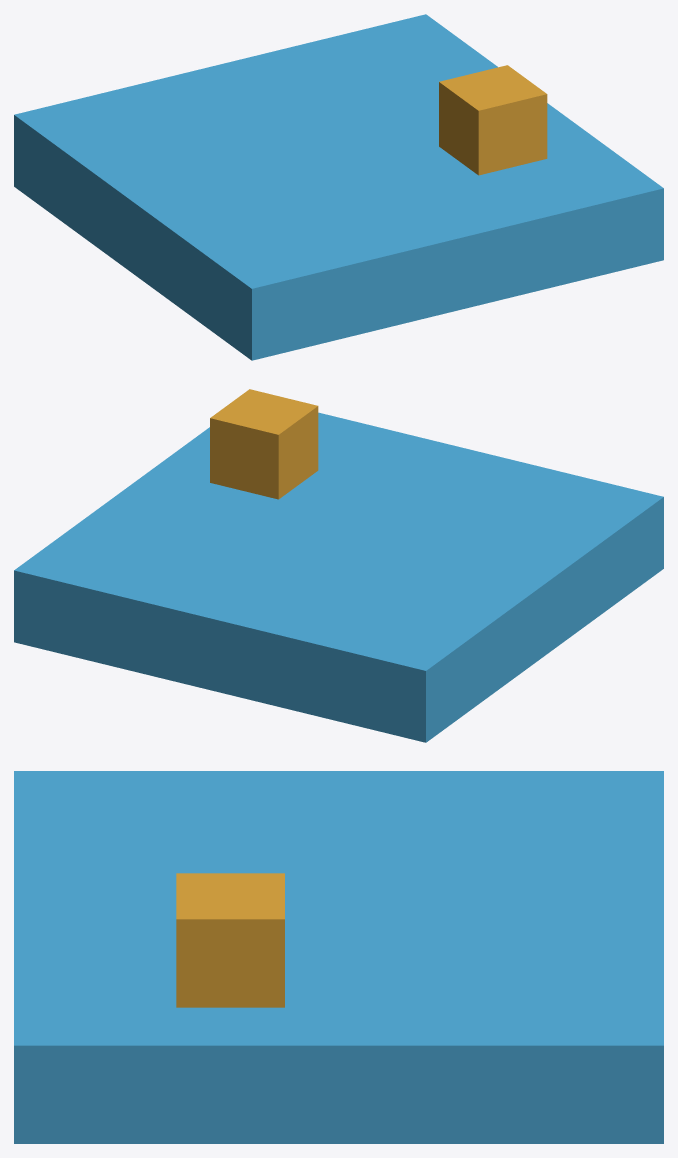
Rendered from garcias_pool.glb.
3 renders of one model, top to bottom at view 1: azimuth 30°, elevation 25°; view 2: azimuth 150°, elevation 25°; view 3: azimuth 270°, elevation 25°, orthographic. The views are drawn at different scales.
Visible parts, largest first — view 1: Box1, Box3; view 2: Box1, Box3; view 3: Box1, Box3.
Boxes of the visible parts, left/top/right/bottom form: Box1: left=14, top=14, right=663, bottom=360; Box3: left=439, top=65, right=547, bottom=175; Box1: left=14, top=412, right=663, bottom=742; Box3: left=210, top=389, right=318, bottom=499; Box1: left=14, top=771, right=663, bottom=1143; Box3: left=176, top=873, right=284, bottom=1007.
Bounding box in the file's own units: 1.8 × 0.57 × 1.8.
